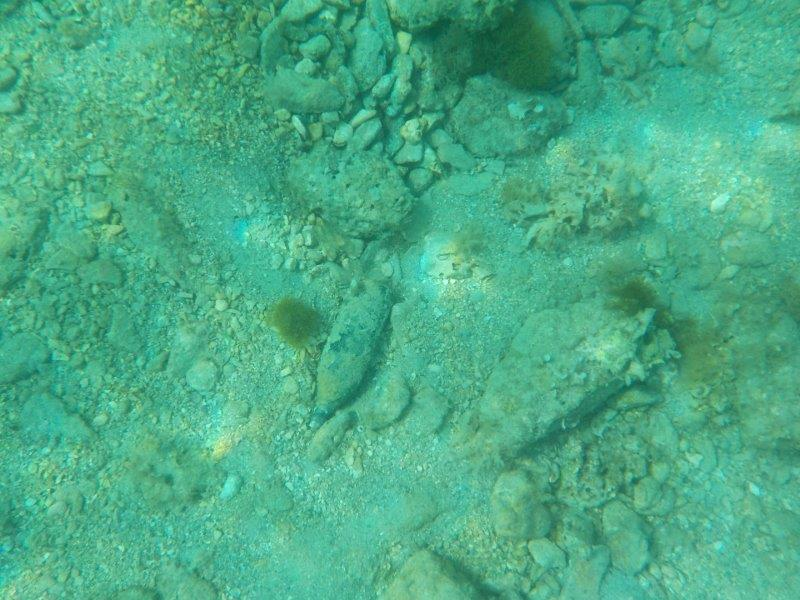bottle: (306, 274, 396, 433)
